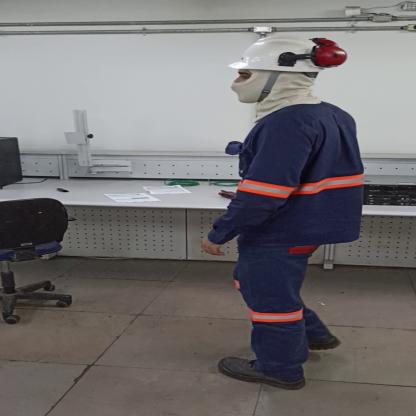Balaclava: (226, 71, 334, 115)
Capacete: (221, 34, 352, 73)
